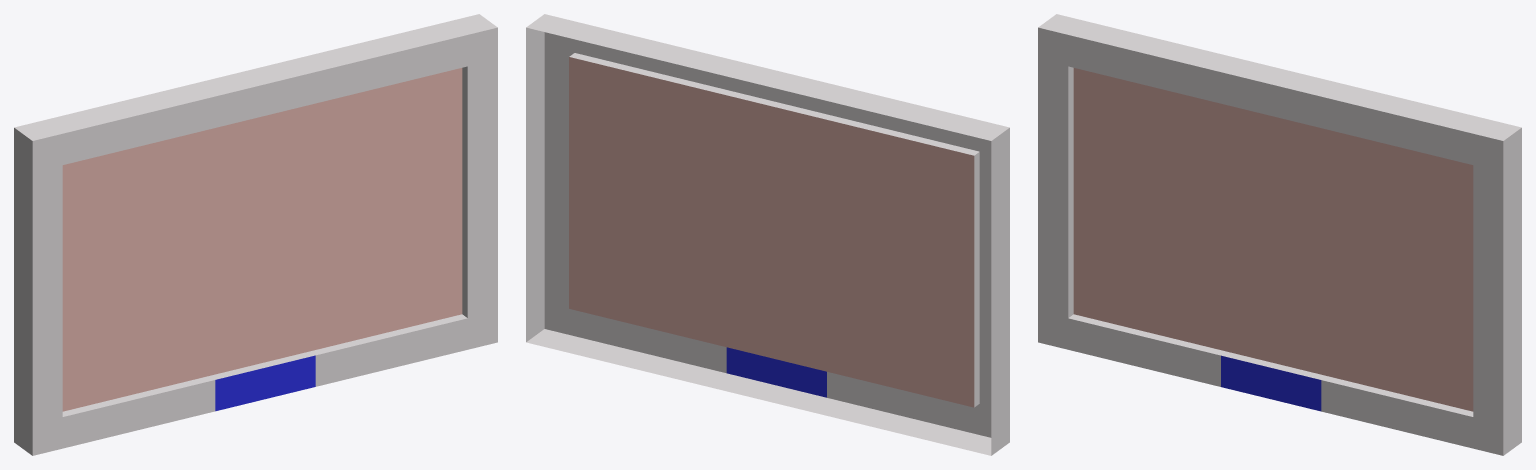
File: PictureFrame.glb
The picture shows the model from 3 angles, left to right: view 1: azimuth 30°, elevation 25°; view 2: azimuth 150°, elevation 25°; view 3: azimuth 330°, elevation 25°; orthographic projection.
Parts seen in each view (by area): view 1: Picture, PictureFrame, PictureFrameLogo; view 2: Picture, PictureFrame, PictureFrameLogo; view 3: Picture, PictureFrame, PictureFrameLogo.
Boxes of the visible parts, <box> form: Picture: <box>62,68,462,411</box>; PictureFrame: <box>14,14,497,455</box>; PictureFrameLogo: <box>215,355,315,411</box>; Picture: <box>569,57,974,407</box>; PictureFrame: <box>526,14,1009,455</box>; PictureFrameLogo: <box>726,347,826,397</box>; Picture: <box>1073,68,1473,411</box>; PictureFrame: <box>1038,14,1521,455</box>; PictureFrameLogo: <box>1221,355,1321,411</box>.
Size of the model in its own units: 3.09 by 2 by 0.2132.
